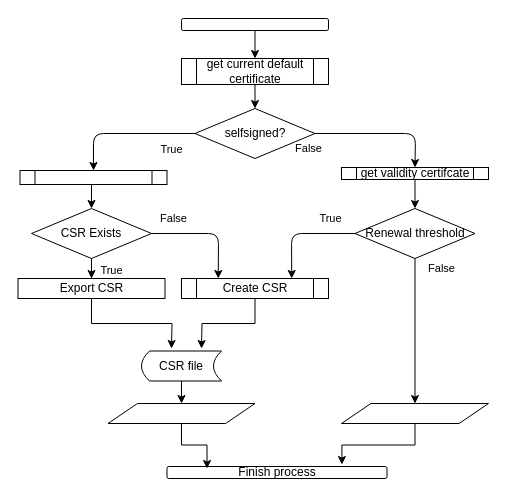
This 506x497 diagram has some shape labels left out. Here are the shapes that lost their labels. From the top down, the centre of each, then its label:
At (254,24): "Start process".
At (93,177): "find CSR".
At (181,413): "RC=100".
At (414,413): "RC=900".
